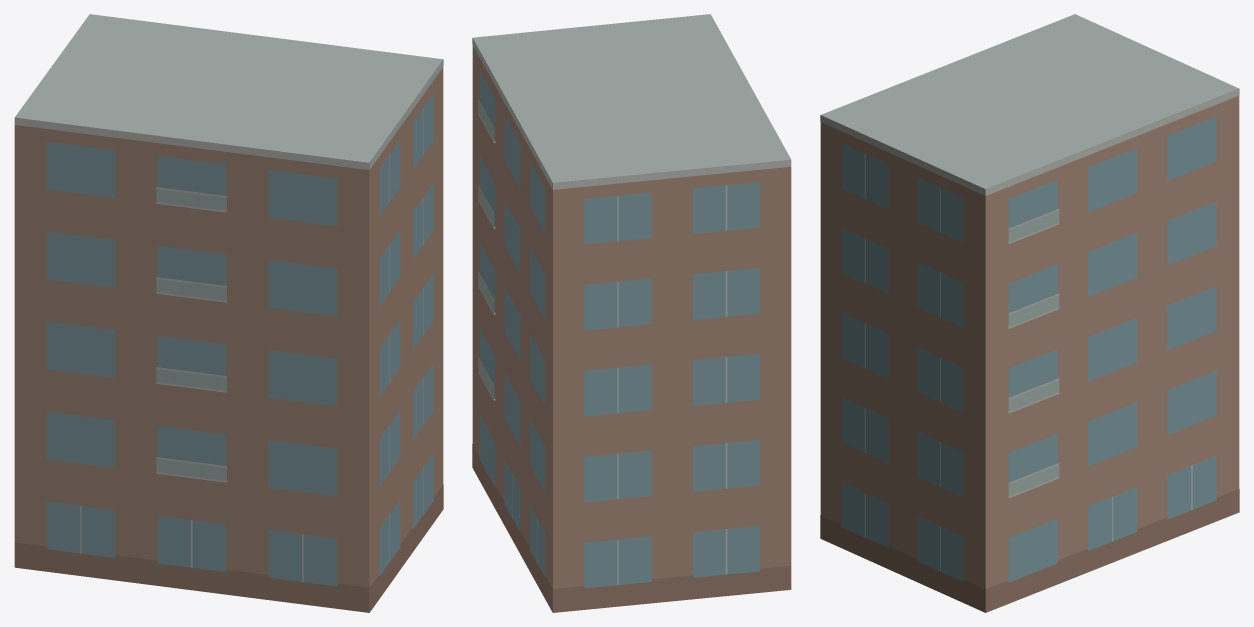
Rendered from survey-upis-32755151.glb.
The picture shows the model from 3 angles, left to right: view 1: azimuth 30°, elevation 25°; view 2: azimuth 150°, elevation 25°; view 3: azimuth 270°, elevation 25°; orthographic projection. The views are drawn at different scales.
Visible parts, largest first — view 1: survey-upis-32755151.tmp; view 2: survey-upis-32755151.tmp; view 3: survey-upis-32755151.tmp.
Part boxes in pixels (box(x1,y1,x2,y2)): survey-upis-32755151.tmp: box(14, 14, 443, 612); survey-upis-32755151.tmp: box(472, 14, 791, 612); survey-upis-32755151.tmp: box(820, 14, 1239, 612).
Size of the model in its own units: 13.35 by 15.05 by 13.49.
